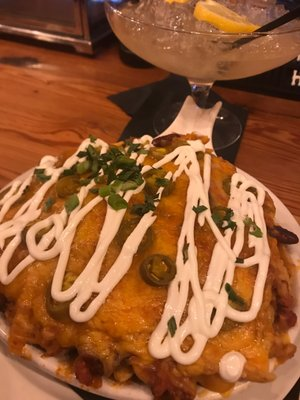sushi: (101, 0, 299, 107)
